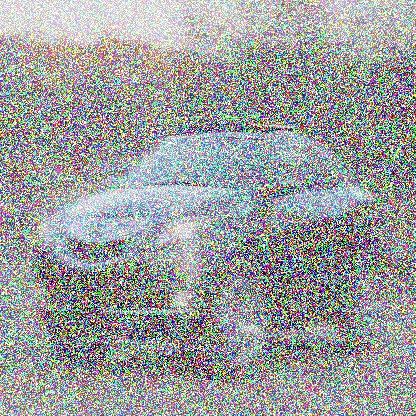Vehicle: (35, 124, 384, 384)
